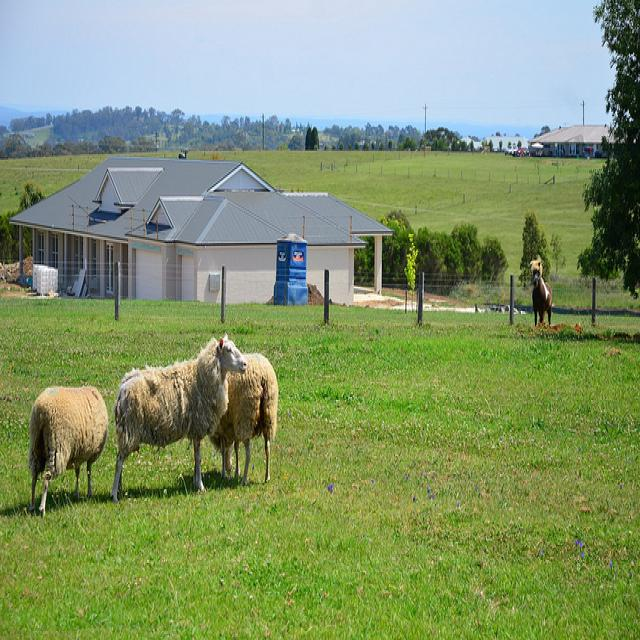Vehicle: (505, 145, 518, 155), (516, 147, 528, 157), (526, 148, 536, 157)
